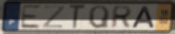A: (131, 5, 156, 29)
E: (19, 4, 42, 30)
Q: (88, 5, 110, 30)
R: (109, 5, 134, 29)
T: (68, 4, 87, 30)
Z: (41, 5, 66, 29)
